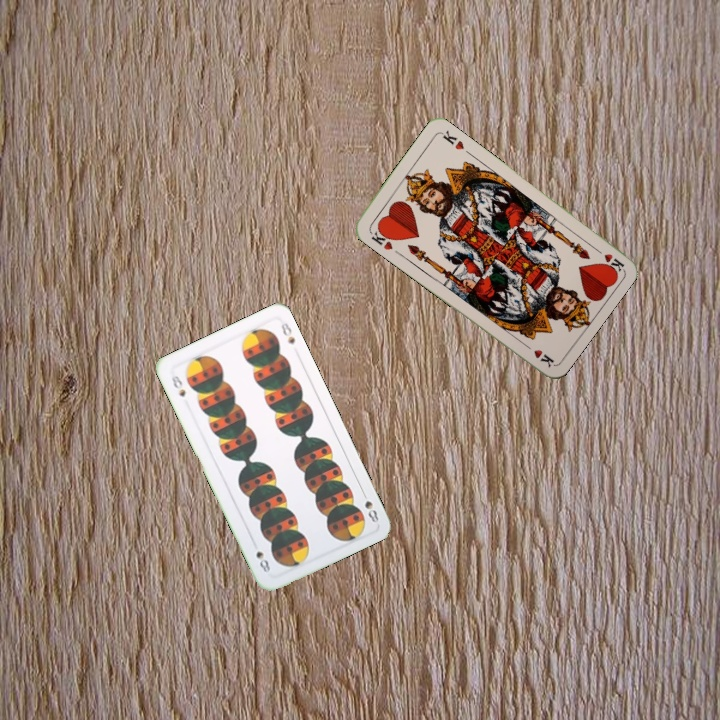HK: (589, 242, 626, 274), (366, 224, 397, 253)
S8: (357, 486, 381, 526), (167, 371, 188, 400)
